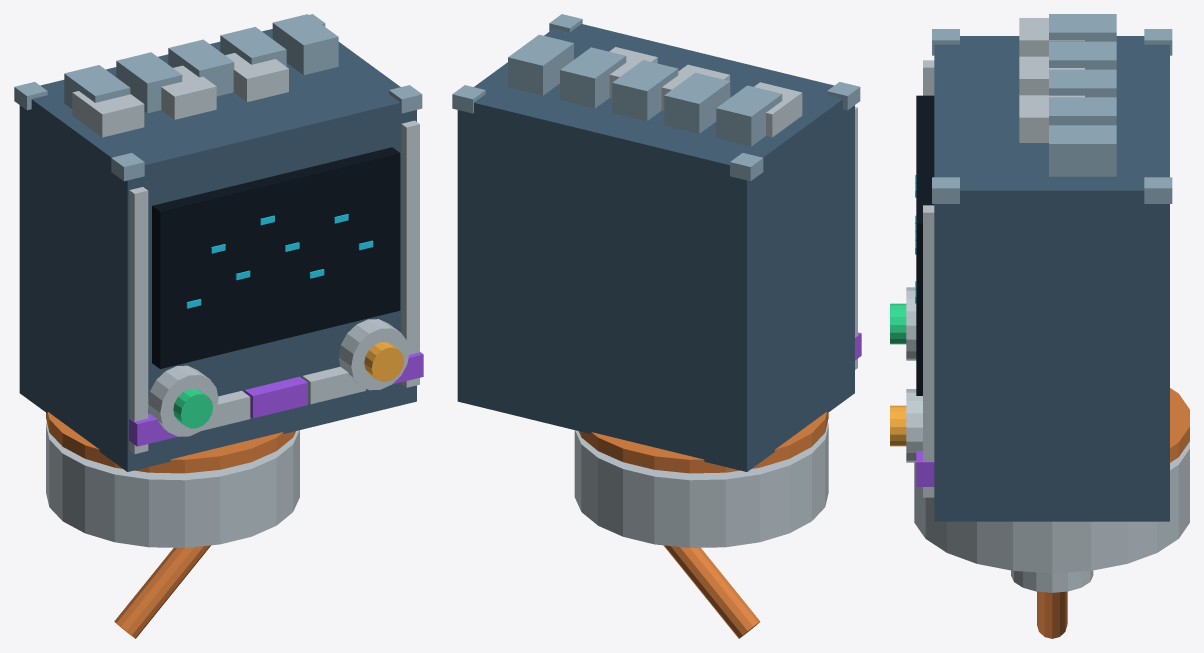
The model's file is 34_L73_AcousticEmissionSensor.fbx.
3 renders of one model, left to right at view 1: azimuth 30°, elevation 25°; view 2: azimuth 150°, elevation 25°; view 3: azimuth 270°, elevation 25°, orthographic. The views are drawn at different scales.
Visible parts, largest first — view 1: AcousticEmissionSensor; view 2: AcousticEmissionSensor; view 3: AcousticEmissionSensor.
Boxes of the visible parts, box(x1,y1,x2,y2) form: AcousticEmissionSensor: box(14, 14, 423, 638); AcousticEmissionSensor: box(452, 14, 861, 638); AcousticEmissionSensor: box(890, 14, 1189, 638).
Bounding box in the file's own units: 47.03 × 81.38 × 36.63.
